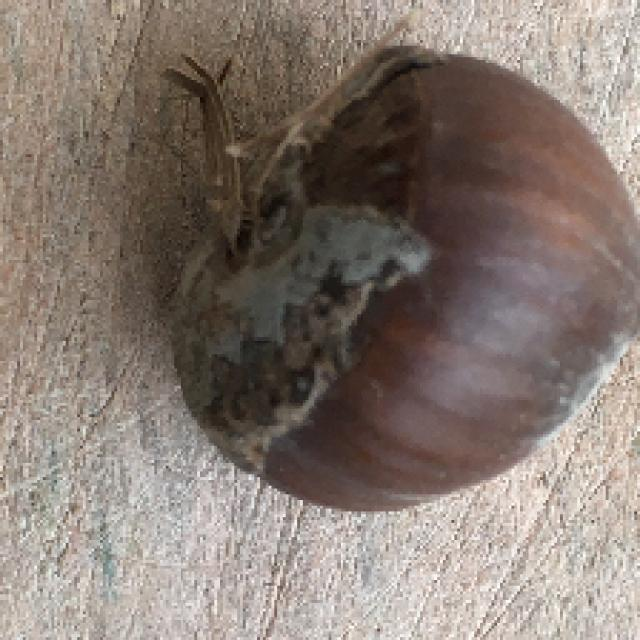damagedHazelnut: (176, 42, 633, 528)
